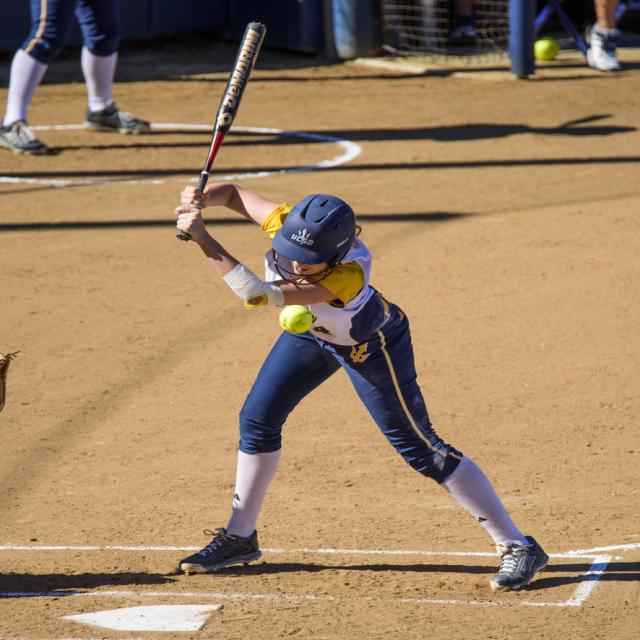Tennis ball: (279, 305, 319, 343), (531, 37, 557, 64)
